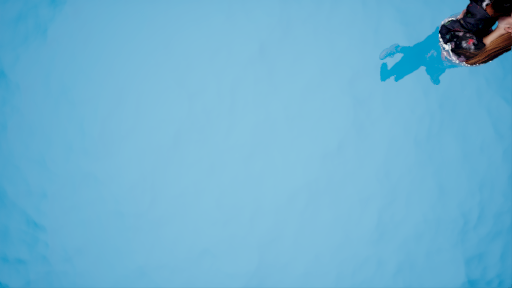person: (378, 2, 509, 95)
